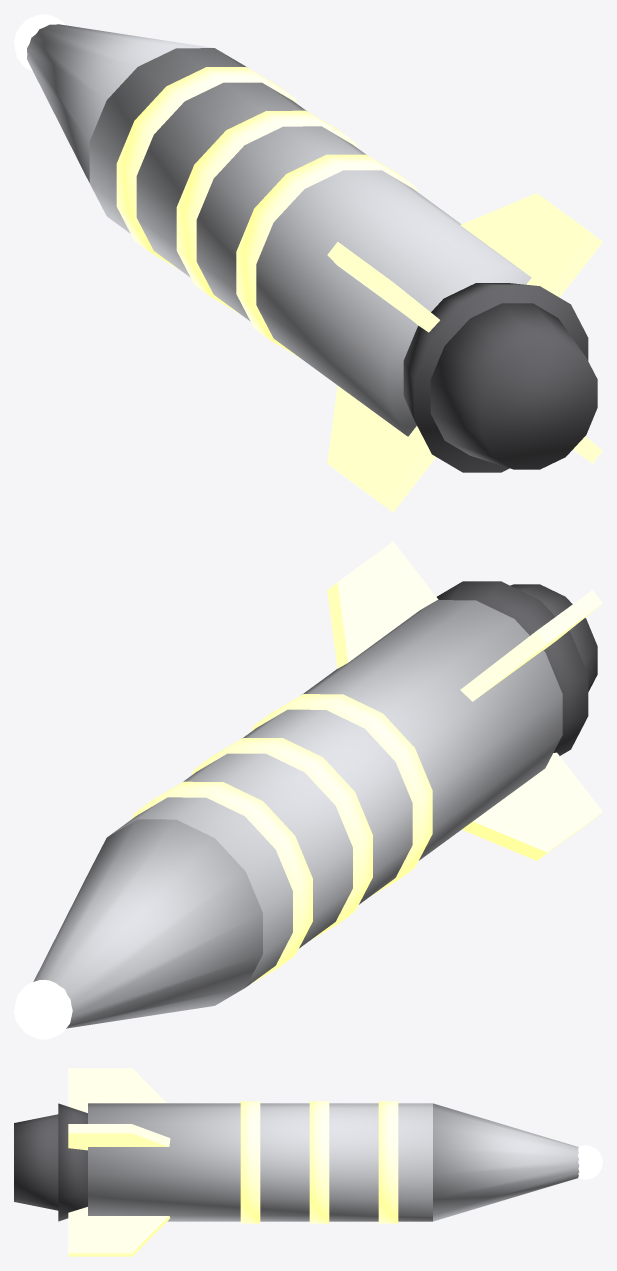
Rendered from rakete_mega.glb.
3 renders of one model, top to bottom at view 1: azimuth 30°, elevation 25°; view 2: azimuth 150°, elevation 25°; view 3: azimuth 270°, elevation 25°, orthographic. The views are drawn at different scales.
Visible parts, largest first — view 1: Rumpf.003, Duese.003, Nase.003, Heck, Flosse0.004, Flosse2.004, Ring2, Ring1, Ring0, Flosse1.004, Spitze; view 2: Rumpf.003, Nase.003, Flosse0.004, Flosse2.004, Heck, Ring2, Ring0, Ring1, Flosse1.004, Spitze, Duese.003; view 3: Rumpf.003, Nase.003, Duese.003, Flosse3.003, Flosse1.004, Heck, Ring0, Ring1, Ring2, Flosse0.004, Spitze.
Part boxes in pixels (x1,y1,x2,y2): Rumpf.003: [89, 48, 531, 436]; Duese.003: [430, 303, 597, 469]; Nase.003: [27, 24, 212, 182]; Heck: [403, 283, 588, 472]; Flosse0.004: [460, 193, 602, 297]; Flosse2.004: [327, 385, 435, 512]; Ring2: [236, 154, 418, 357]; Ring1: [176, 110, 358, 313]; Ring0: [116, 67, 298, 269]; Flosse1.004: [327, 242, 439, 332]; Spitze: [14, 14, 65, 71]; Rumpf.003: [108, 600, 562, 986]; Nase.003: [33, 819, 262, 1028]; Flosse0.004: [327, 541, 438, 668]; Flosse2.004: [462, 752, 602, 860]; Heck: [437, 581, 588, 755]; Ring2: [251, 694, 432, 896]; Ring0: [131, 781, 312, 984]; Ring1: [191, 738, 372, 940]; Flosse1.004: [460, 590, 602, 701]; Spitze: [14, 980, 72, 1039]; Duese.003: [510, 584, 597, 691]; Rumpf.003: [88, 1103, 432, 1221]; Nase.003: [433, 1103, 579, 1221]; Duese.003: [14, 1114, 58, 1210]; Flosse3.003: [68, 1207, 169, 1256]; Flosse1.004: [68, 1068, 166, 1112]; Heck: [58, 1103, 87, 1221]; Ring0: [378, 1101, 398, 1223]; Ring1: [309, 1101, 329, 1223]; Ring2: [240, 1101, 260, 1223]; Flosse0.004: [68, 1124, 170, 1150]; Spitze: [578, 1145, 602, 1179].
Bounding box in the file's own units: 0.297 × 0.297 × 1.2.
